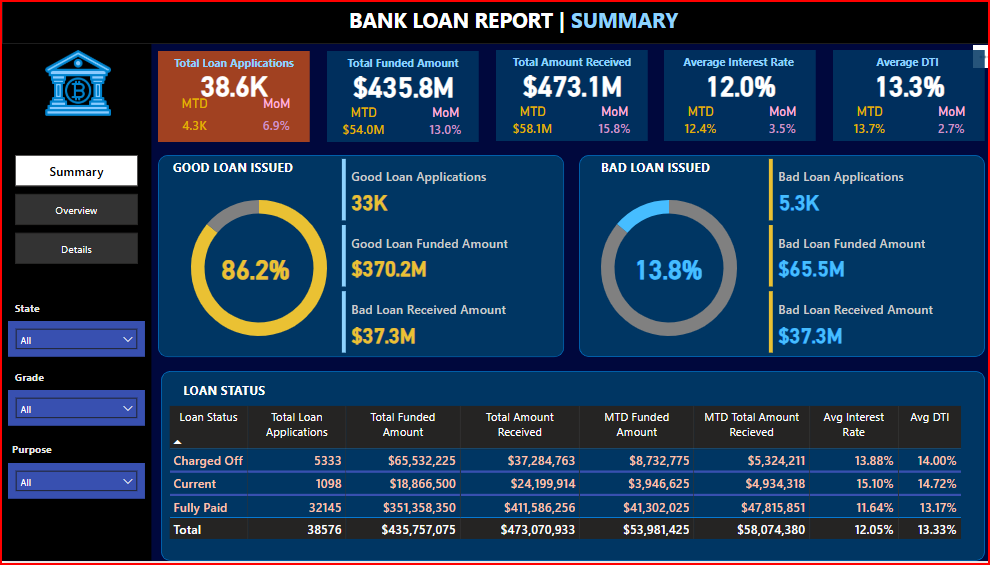

What the dashboard file says about the page in this screenshot:
{"tool":"powerbi","page":{"name":"Summary","canvas":[1280,720],"ordinal":0},"visuals":[{"type":"shape","box":[0,0,1280,55],"z":0},{"type":"shape","box":[0,55.3,192,664.4],"z":1000},{"type":"textbox","box":[440.8,1.3,448.5,50.1],"z":2000},{"type":"shape","box":[634.5,63,195.3,116.9],"z":3000,"group":"g3"},{"type":"shape","box":[851.2,63,195.3,116.9],"z":3000,"group":"g4"},{"type":"shape","box":[1068,63,195.3,116.9],"z":3000,"group":"g5"},{"type":"group","id":"g1","title":"Group 1","box":[200,64.3,195.8,116.9],"z":3000},{"type":"shape","box":[200.4,64.3,195.3,116.9],"z":3000,"group":"g1"},{"type":"shape","box":[417.2,64.3,195.3,116.9],"z":3000,"group":"g2"},{"type":"group","id":"g2","title":"Group 1","box":[417.2,64.3,195.9,116.9],"z":4000},{"type":"card","fields":{"Values":["financial_loan.Total Amount Received"]},"box":[636.4,80.7,194.1,52.7],"z":4000,"group":"g3"},{"type":"card","fields":{"Values":["financial_loan.Avg Interest Rate"]},"box":[853.1,80.7,194.1,52.7],"z":4000,"group":"g4"},{"type":"card","fields":{"Values":["financial_loan.Avg DTI"]},"box":[1069.9,80.7,194.1,52.7],"z":4000,"group":"g5"},{"type":"card","fields":{"Values":["financial_loan.Total Loan Applications"]},"box":[200,82,195.3,50.1],"z":4000,"group":"g1"},{"type":"card","fields":{"Values":["financial_loan.Total Funded Amount"]},"box":[419.1,82,194.1,52.7],"z":4000,"group":"g2"},{"type":"textbox","box":[634.5,63,195.3,36],"z":5000,"group":"g3"},{"type":"textbox","box":[851.2,63,195.3,36],"z":5000,"group":"g4"},{"type":"textbox","box":[1068,63,195.3,36],"z":5000,"group":"g5"},{"type":"textbox","box":[200.4,64.3,195.3,36],"z":5000,"group":"g1"},{"type":"textbox","box":[417.2,64.3,195.3,36],"z":5000,"group":"g2"},{"type":"shape","box":[200.5,197.9,522,260],"z":5000},{"type":"card","title":"MTD","fields":{"Values":["financial_loan.MTD Loan Applications"]},"box":[214.1,121.8,65.5,59.1],"z":6000,"group":"g1"},{"type":"card","title":"MTD","fields":{"Values":["financial_loan.MTD Total Amount Recieved"]},"box":[649.2,132.1,65.5,47.6],"z":6000,"group":"g3"},{"type":"card","title":"MTD","fields":{"Values":["financial_loan.MTD Avg Int Rate"]},"box":[865.9,132.1,65.5,47.6],"z":6000,"group":"g4"},{"type":"card","title":"MTD","fields":{"Values":["financial_loan.MTD Avg DTI"]},"box":[1082.7,132.1,65.5,47.6],"z":6000,"group":"g5"},{"type":"card","title":"MTD","fields":{"Values":["financial_loan.MTD Funded Amount"]},"box":[431.9,133.4,65.5,47.6],"z":6000,"group":"g2"},{"type":"card","fields":{"Values":["financial_loan.Good Loan %"]},"box":[262.2,316.1,127.2,52.7],"z":6000},{"type":"group","id":"g3","title":"Group 1","box":[634.5,63,195.3,116.9],"z":7000},{"type":"card","title":"MoM","fields":{"Values":["financial_loan.MoM Loan Applications"]},"box":[319.5,121.8,65.5,59.1],"z":7000,"group":"g1"},{"type":"card","title":"MoM","fields":{"Values":["financial_loan.MoM Total  Amount Received"]},"box":[754.6,132.1,65.5,47.6],"z":7000,"group":"g3"},{"type":"card","title":"MoM","fields":{"Values":["financial_loan.MoM Avg Int Rate"]},"box":[971.3,132.1,65.5,47.6],"z":7000,"group":"g4"},{"type":"card","title":"MoM","fields":{"Values":["financial_loan.MoM Avg DTI"]},"box":[1188.1,132.1,65.5,47.6],"z":7000,"group":"g5"},{"type":"card","title":"MoM","fields":{"Values":["financial_loan.MoM Total Funded Amount"]},"box":[537.3,133.4,65.5,47.6],"z":7000,"group":"g2"},{"type":"group","id":"g4","title":"Group 1","box":[851.2,63,195.3,116.9],"z":8000},{"type":"group","id":"g5","title":"Group 1","box":[1068,63,195.3,116.9],"z":9000},{"type":"shape","box":[741.5,197.9,521.8,259.6],"z":10000},{"type":"donutChart","fields":{"Category":["financial_loan.Good vs Bad Loan"],"Y":["financial_loan.Total Loan Applications"]},"box":[214.6,228.8,231.3,228.8],"z":11000},{"type":"textbox","box":[214.6,197.9,203.1,30.8],"z":12000},{"type":"cardVisual","fields":{"Data":["financial_loan.Good Loan Applications","financial_loan.Good Loan Funded Amount","financial_loan.Good Loan Received Amount"]},"box":[431.8,197.9,282.7,259.6],"z":13000},{"type":"donutChart","fields":{"Category":["financial_loan.Good vs Bad Loan"],"Y":["financial_loan.Total Loan Applications"]},"box":[741.5,228.8,231.3,228.8],"z":14000},{"type":"textbox","box":[764.7,197.9,170.9,30.8],"z":15000},{"type":"card","fields":{"Values":["financial_loan.Bad Loan %"]},"box":[792.9,316.1,127.2,52.7],"z":16000},{"type":"cardVisual","fields":{"Data":["financial_loan.Bad Loan Applications","financial_loan.Bad Loan Funded Amount","financial_loan.Bad Loan Received Amount"]},"box":[980.6,197.9,282.7,259.6],"z":17000},{"type":"shape","box":[204.3,475.5,1059,244.2],"z":18000},{"type":"tableEx","fields":{"Values":["financial_loan.loan_status","financial_loan.Total Loan Applications","financial_loan.Total Funded Amount","financial_loan.Total Amount Received","financial_loan.MTD Funded Amount","financial_loan.MTD Total Amount Recieved","financial_loan.Avg Interest Rate","financial_loan.Avg DTI"]},"box":[209.5,515.3,1043.5,191.5],"z":19000},{"type":"textbox","box":[223.6,484.5,128.5,30.8],"z":20000},{"type":"slicer","fields":{"Values":["financial_loan.address_state"]},"box":[7.7,411.2,176.1,46.3],"z":21000},{"type":"textbox","box":[7.7,380.4,64.3,30.8],"z":22000},{"type":"slicer","fields":{"Values":["financial_loan.grade"]},"box":[7.7,499.9,176.1,46.3],"z":23000},{"type":"textbox","box":[7.7,469.1,64.3,30.8],"z":24000},{"type":"slicer","fields":{"Values":["financial_loan.purpose"]},"box":[7.7,593.7,176.1,46.3],"z":25000},{"type":"textbox","box":[7.7,561.6,70.7,32.1],"z":26000},{"type":"pageNavigator","box":[16.7,197.9,158.1,140.1],"z":26001},{"type":"image","box":[21.8,55.3,152.9,100.2],"z":26002}]}

Visuals, with their boxes in screenshot pixels (x1, y1, x2, y2), scaled from the page's 1280x720 canvas onto the 990x565 screenshot:
shape: [left=0, top=0, right=989, bottom=43]
shape: [left=0, top=43, right=148, bottom=564]
textbox: [left=341, top=1, right=688, bottom=40]
shape: [left=491, top=49, right=642, bottom=141]
shape: [left=658, top=49, right=809, bottom=141]
shape: [left=826, top=49, right=977, bottom=141]
"Group 1" group: [left=155, top=50, right=306, bottom=142]
shape: [left=155, top=50, right=306, bottom=142]
shape: [left=323, top=50, right=474, bottom=142]
"Group 1" group: [left=323, top=50, right=474, bottom=142]
card - financial_loan.Total Amount Received: [left=492, top=63, right=642, bottom=105]
card - financial_loan.Avg Interest Rate: [left=660, top=63, right=810, bottom=105]
card - financial_loan.Avg DTI: [left=828, top=63, right=978, bottom=105]
card - financial_loan.Total Loan Applications: [left=155, top=64, right=306, bottom=104]
card - financial_loan.Total Funded Amount: [left=324, top=64, right=474, bottom=106]
textbox: [left=491, top=49, right=642, bottom=78]
textbox: [left=658, top=49, right=809, bottom=78]
textbox: [left=826, top=49, right=977, bottom=78]
textbox: [left=155, top=50, right=306, bottom=79]
textbox: [left=323, top=50, right=474, bottom=79]
shape: [left=155, top=155, right=559, bottom=359]
"MTD" card: [left=166, top=96, right=216, bottom=142]
"MTD" card: [left=502, top=104, right=553, bottom=141]
"MTD" card: [left=670, top=104, right=720, bottom=141]
"MTD" card: [left=837, top=104, right=888, bottom=141]
"MTD" card: [left=334, top=105, right=385, bottom=142]
card - financial_loan.Good Loan %: [left=203, top=248, right=301, bottom=289]
"Group 1" group: [left=491, top=49, right=642, bottom=141]
"MoM" card: [left=247, top=96, right=298, bottom=142]
"MoM" card: [left=584, top=104, right=634, bottom=141]
"MoM" card: [left=751, top=104, right=802, bottom=141]
"MoM" card: [left=919, top=104, right=970, bottom=141]
"MoM" card: [left=416, top=105, right=466, bottom=142]
"Group 1" group: [left=658, top=49, right=809, bottom=141]
"Group 1" group: [left=826, top=49, right=977, bottom=141]
shape: [left=574, top=155, right=977, bottom=359]
donutChart - financial_loan.Good vs Bad Loan x financial_loan.Total Loan Applications: [left=166, top=180, right=345, bottom=359]
textbox: [left=166, top=155, right=323, bottom=179]
cardVisual - financial_loan.Good Loan Applications x financial_loan.Good Loan Funded Amount: [left=334, top=155, right=553, bottom=359]
donutChart - financial_loan.Good vs Bad Loan x financial_loan.Total Loan Applications: [left=574, top=180, right=752, bottom=359]
textbox: [left=591, top=155, right=724, bottom=179]
card - financial_loan.Bad Loan %: [left=613, top=248, right=712, bottom=289]
cardVisual - financial_loan.Bad Loan Applications x financial_loan.Bad Loan Funded Amount: [left=758, top=155, right=977, bottom=359]
shape: [left=158, top=373, right=977, bottom=564]
tableEx - financial_loan.loan_status x financial_loan.Total Loan Applications: [left=162, top=404, right=969, bottom=555]
textbox: [left=173, top=380, right=272, bottom=404]
slicer - financial_loan.address_state: [left=6, top=323, right=142, bottom=359]
textbox: [left=6, top=299, right=56, bottom=323]
slicer - financial_loan.grade: [left=6, top=392, right=142, bottom=429]
textbox: [left=6, top=368, right=56, bottom=392]
slicer - financial_loan.purpose: [left=6, top=466, right=142, bottom=502]
textbox: [left=6, top=441, right=61, bottom=466]
pageNavigator: [left=13, top=155, right=135, bottom=265]
image: [left=17, top=43, right=135, bottom=122]
